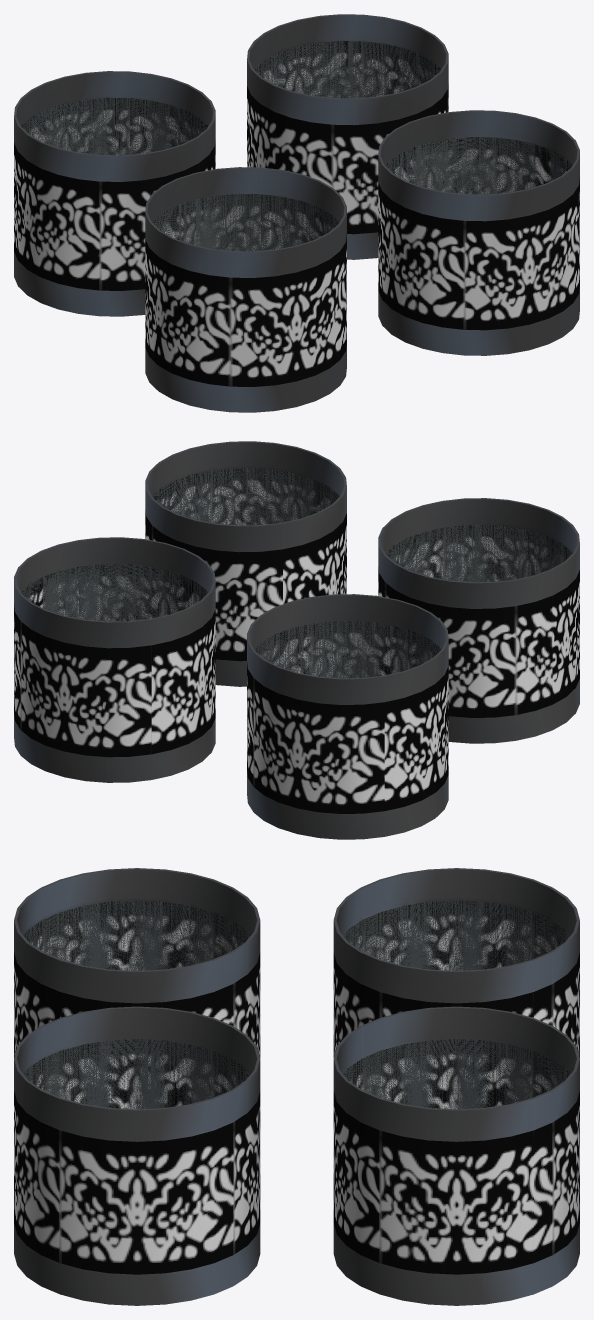
File: raw_model.obj
3 views of the same model, one above another, from view 1: azimuth 30°, elevation 25°; view 2: azimuth 150°, elevation 25°; view 3: azimuth 270°, elevation 25° (orthographic). The views are drawn at different scales.
Parts seen in each view (by area): view 1: glass_001, solid_003, lightmesh_17362; view 2: glass_001, solid_003, lightmesh_17362; view 3: glass_001, solid_003, lightmesh_17362.
Boxes of the visible parts, x1,y1,x2,y2 form: glass_001: (14,41,579,386); solid_003: (14,14,579,412); lightmesh_17362: (22,41,572,251); glass_001: (14,468,579,813); solid_003: (14,441,579,839); lightmesh_17362: (21,468,571,678); glass_001: (14,900,579,1274); solid_003: (14,868,579,1305); lightmesh_17362: (24,900,570,1109).
Size of the model in its own units: 0.9462 by 0.3552 by 0.933.
Materials: 1 (1 with a texture image).
